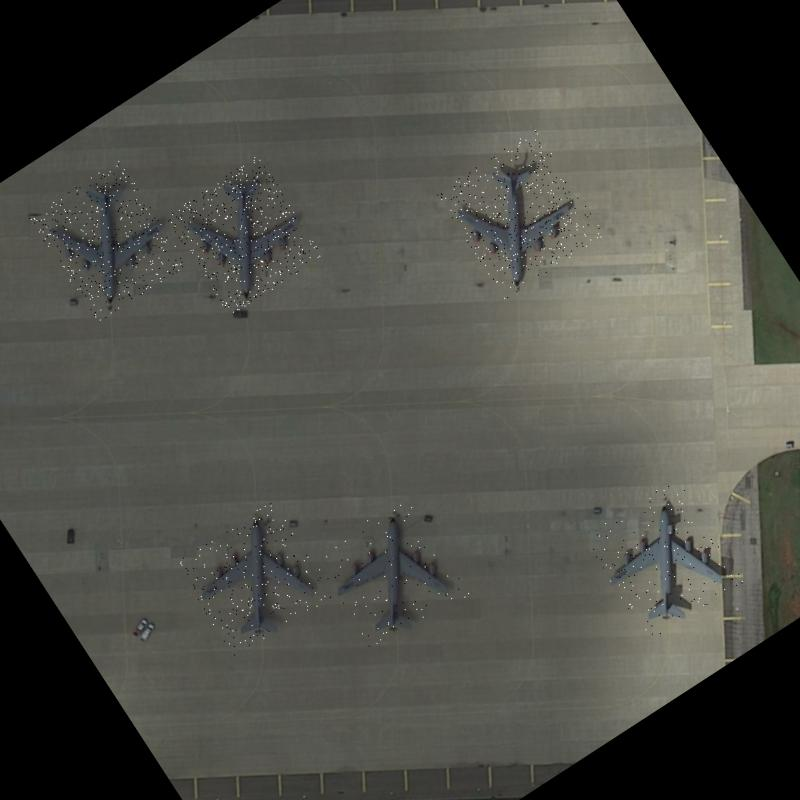A14: (436, 128, 605, 300), (582, 476, 744, 643), (309, 495, 470, 657), (29, 159, 188, 323), (164, 154, 324, 316), (174, 500, 334, 660)
